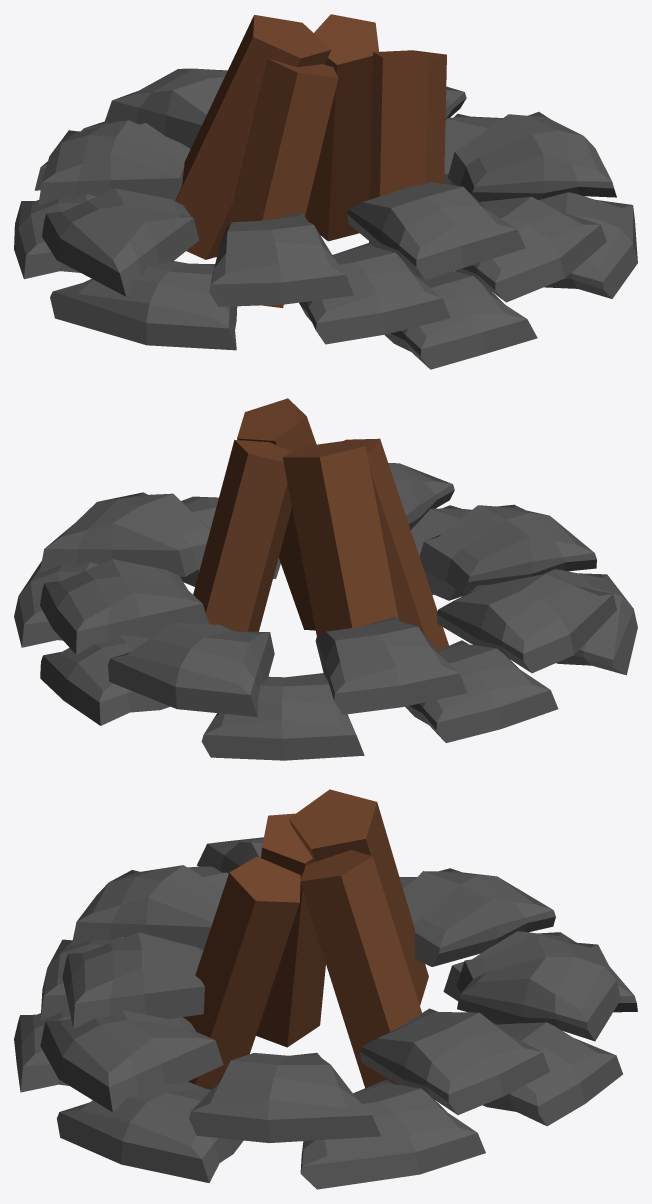
Rendered from campfire.fbx.
3 views of the same model, one above another, from view 1: azimuth 30°, elevation 25°; view 2: azimuth 150°, elevation 25°; view 3: azimuth 270°, elevation 25° (orthographic). The views are drawn at different scales.
Parts seen in each view (by area): view 1: Cylinder; view 2: Cylinder; view 3: Cylinder.
Part boxes in pixels (box(x1,y1,x2,y2)): Cylinder: box(14, 14, 637, 369); Cylinder: box(14, 398, 637, 760); Cylinder: box(14, 789, 637, 1189).
Bounding box in the file's own units: 301 × 331 × 136.
